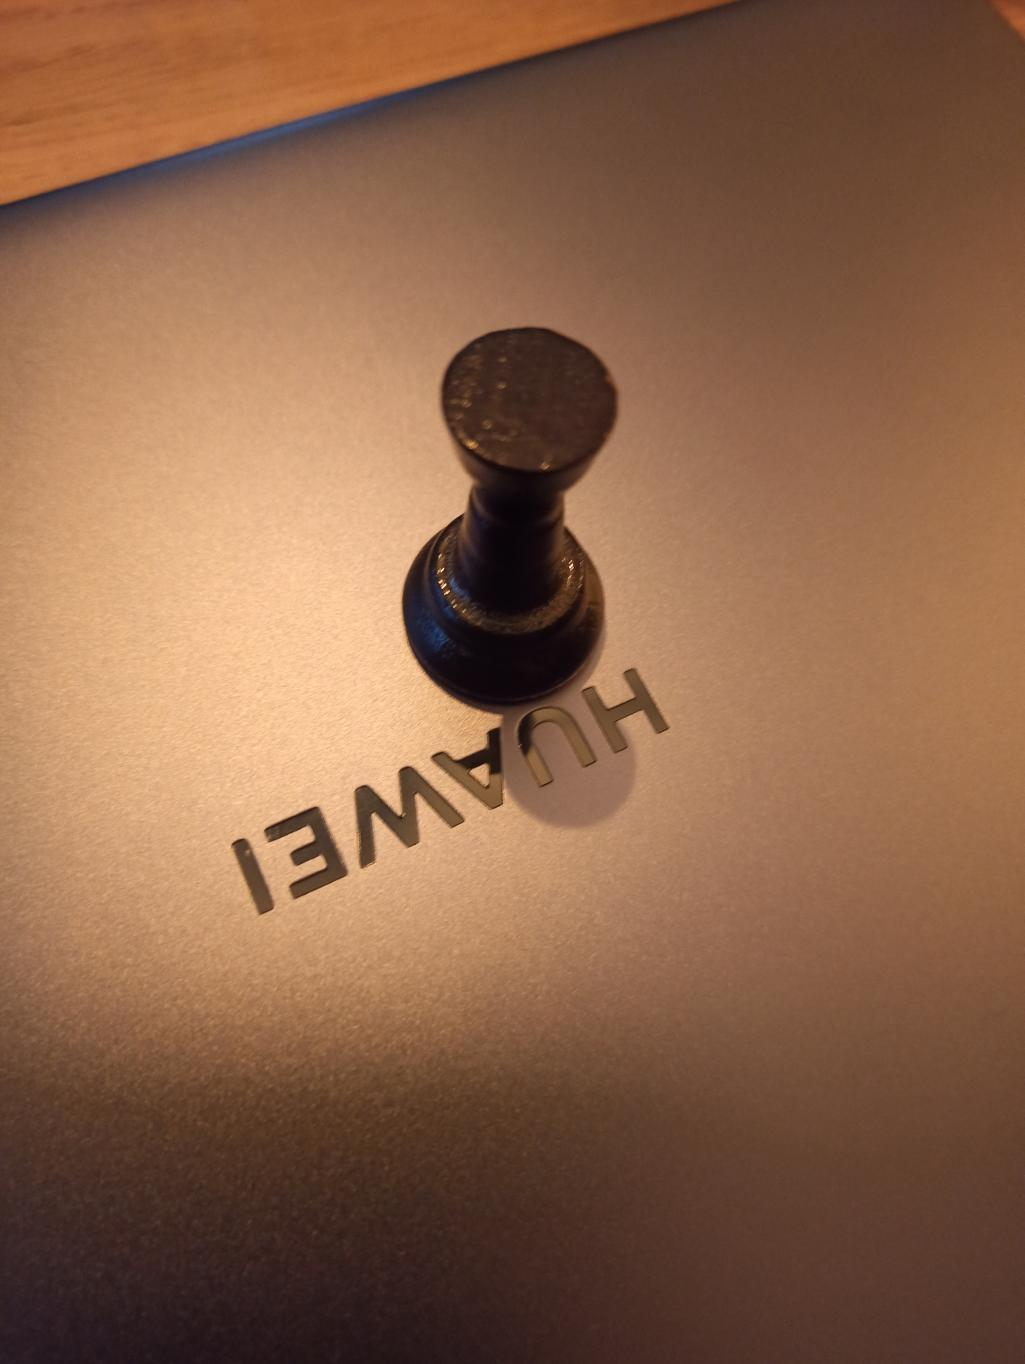brook: (398, 328, 626, 711)
